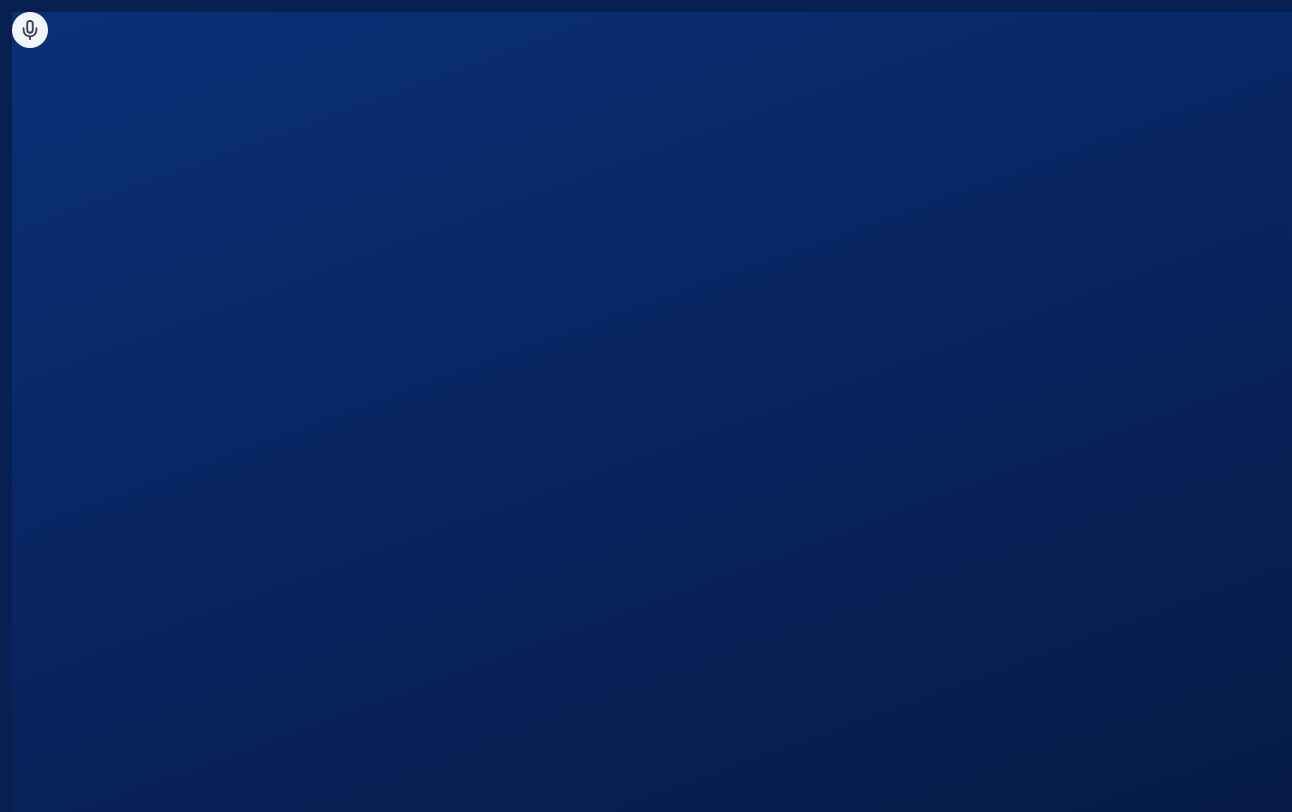
Test: useVoiceMessage › explique en une ligne un micro refusé
The image size is (1292, 812).
Click the button named "Enregistrer un message vocal" at (30, 30), box [12,12,48,48]
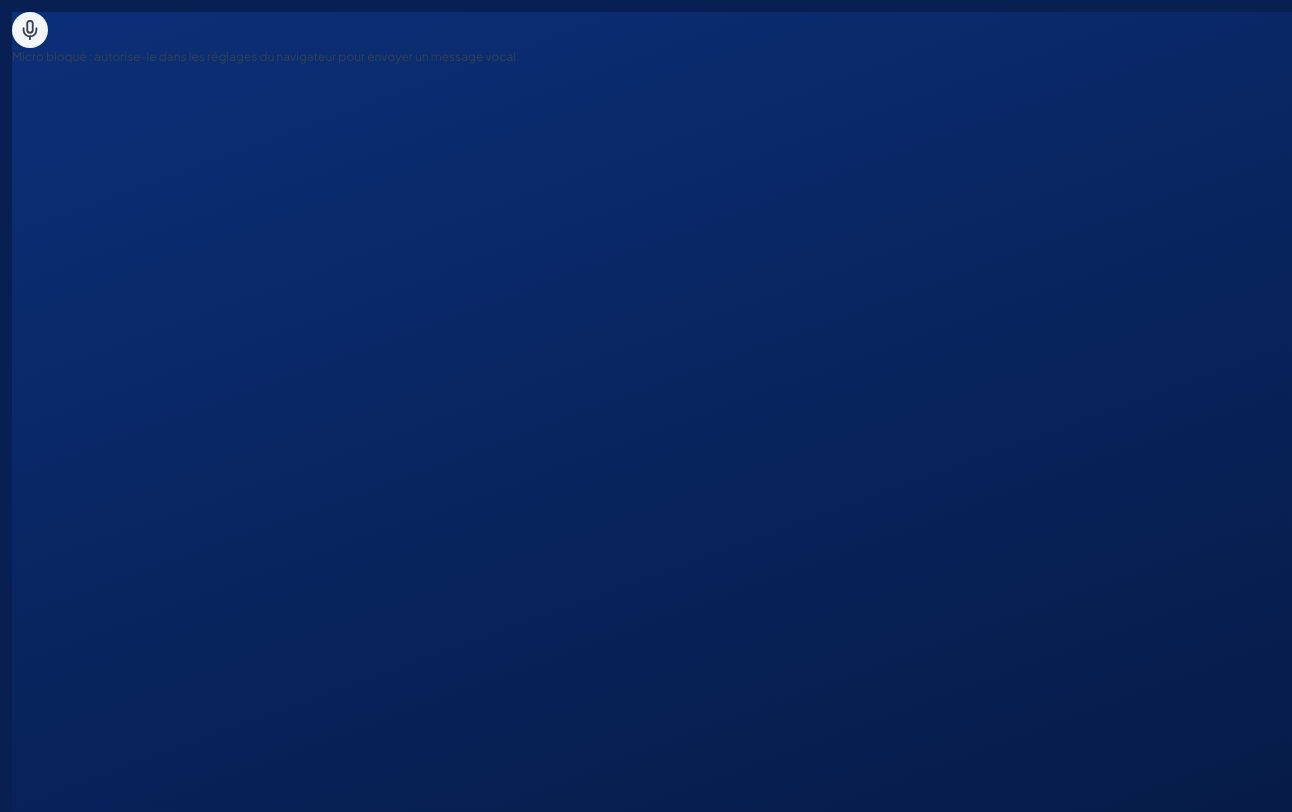
Check: the text "Micro bloqué" is shown, box [12,49,520,64]
